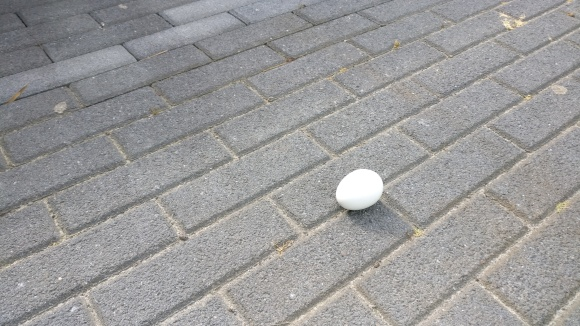egg: (334, 167, 384, 213)
